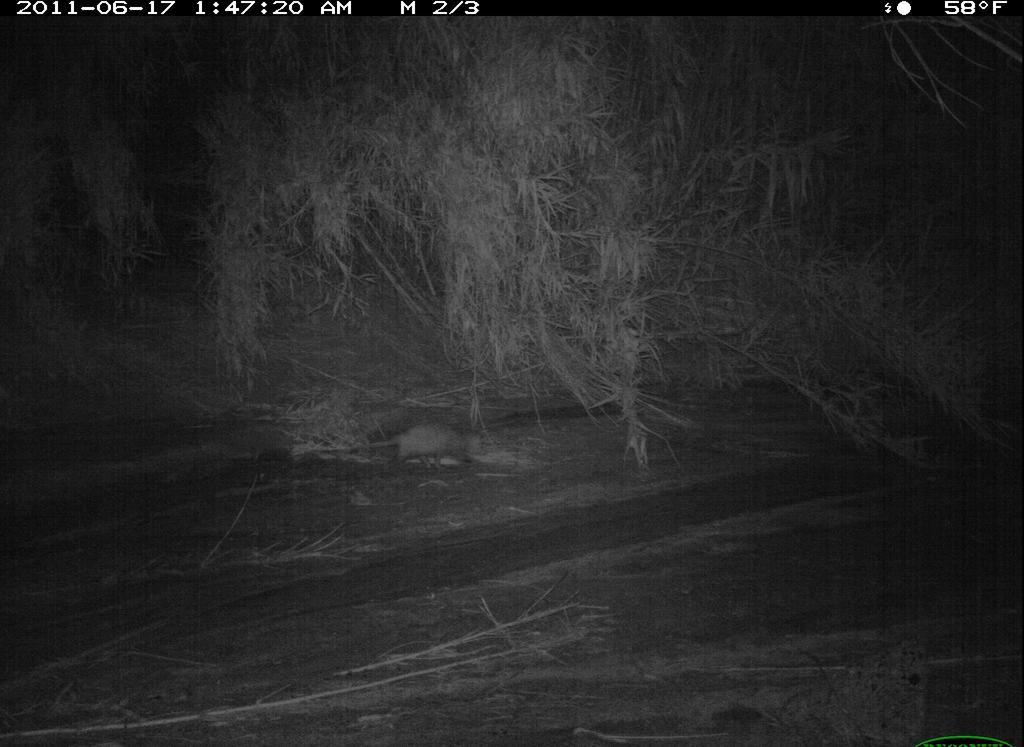opossum: (327, 418, 493, 472)
